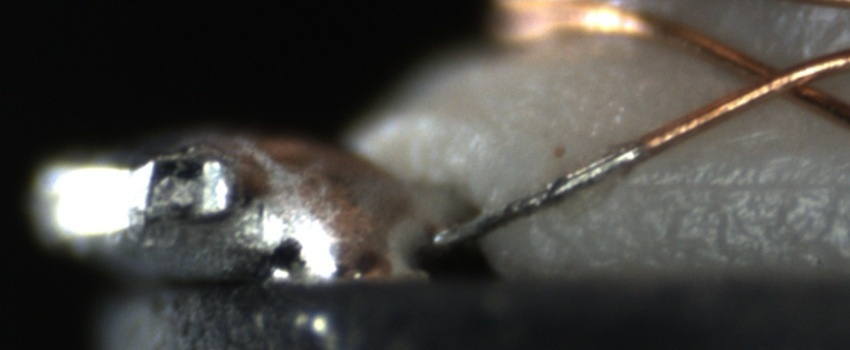CL: (720, 48, 839, 108)
DL: (613, 155, 850, 219)
TS: (432, 141, 645, 250)
